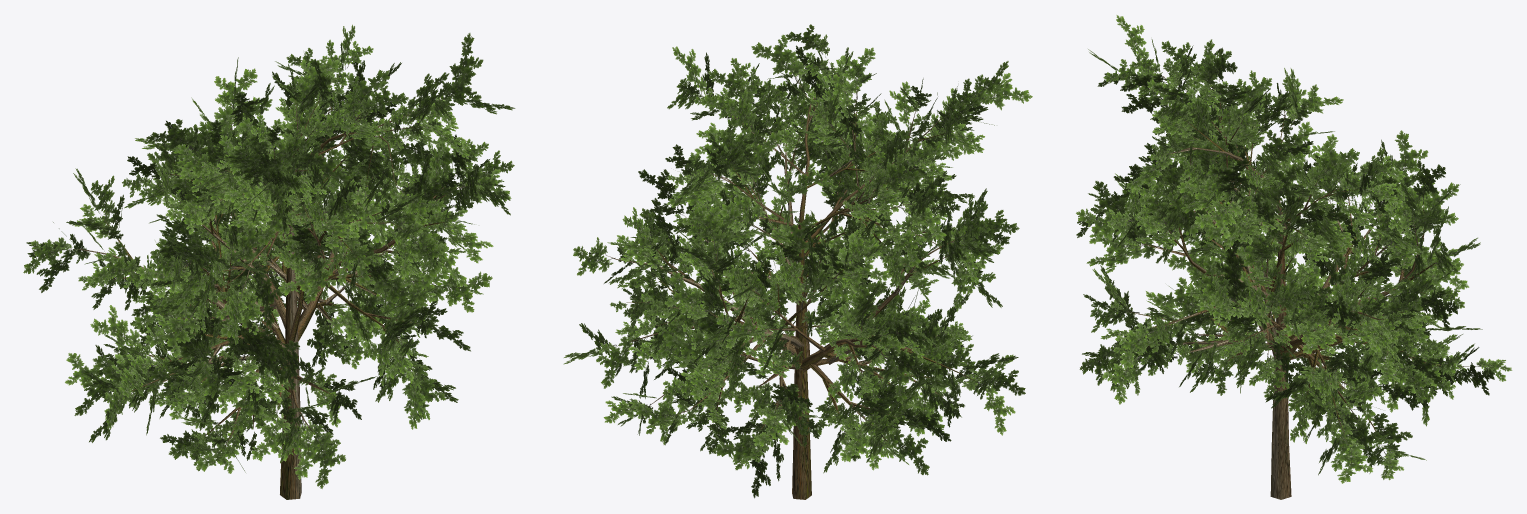
The model's file is oak_coarse.glb.
3 renders of one model, left to right at view 1: azimuth 30°, elevation 25°; view 2: azimuth 150°, elevation 25°; view 3: azimuth 270°, elevation 25°, orthographic. The views are drawn at different scales.
Parts seen in each view (by area): view 1: Tree; view 2: Tree; view 3: Tree.
Part boxes in pixels (<box>): Tree: <box>23,24,515,499</box>; Tree: <box>563,24,1032,499</box>; Tree: <box>1076,15,1512,499</box>.
Bounding box in the file's own units: 62.39 × 66.4 × 57.29.
Materials: 2 (2 with a texture image).
